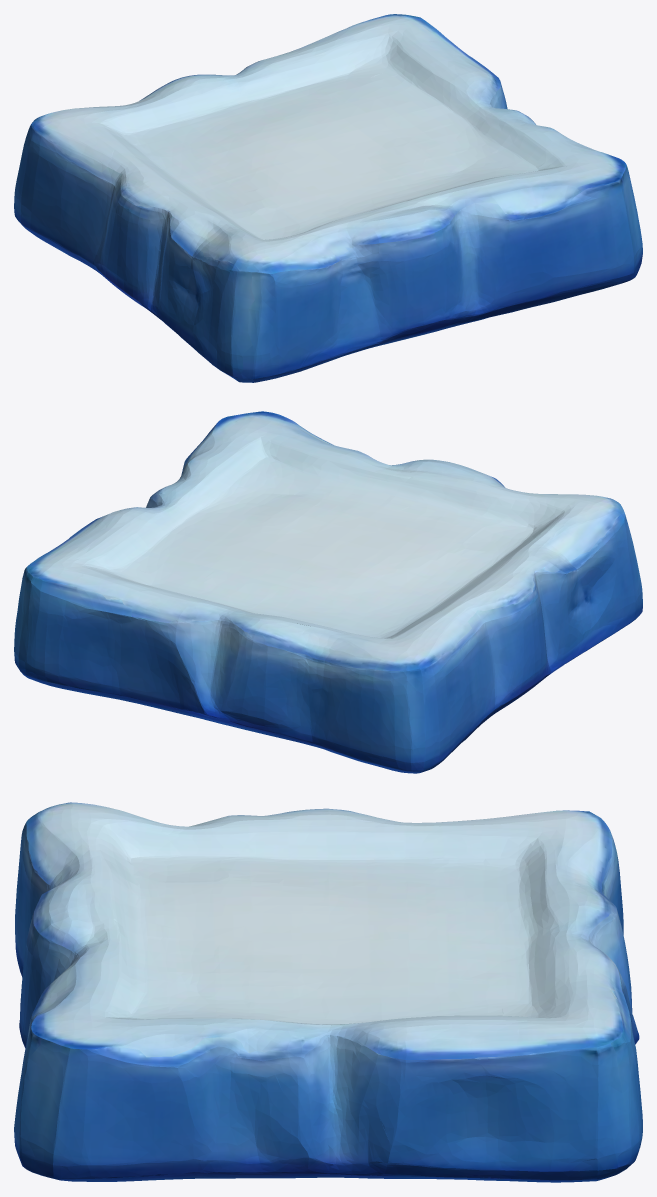
File: floor_clouds.glb
3 renders of one model, top to bottom at view 1: azimuth 30°, elevation 25°; view 2: azimuth 150°, elevation 25°; view 3: azimuth 270°, elevation 25°, orthographic. The views are drawn at different scales.
Parts seen in each view (by area): view 1: world; view 2: world; view 3: world.
Boxes of the visible parts, box(x1,y1,x2,y2) form: world: box(14, 14, 642, 382); world: box(14, 411, 642, 773); world: box(14, 802, 642, 1182).
Bounding box in the file's own units: 0.9958 × 0.269 × 0.992.
Materials: 1 (1 with a texture image).
